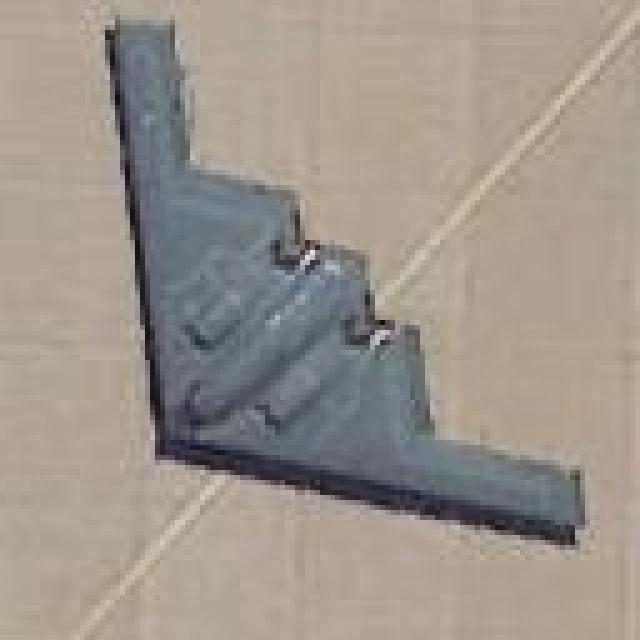B-2_TopDown: (95, 10, 590, 550)
